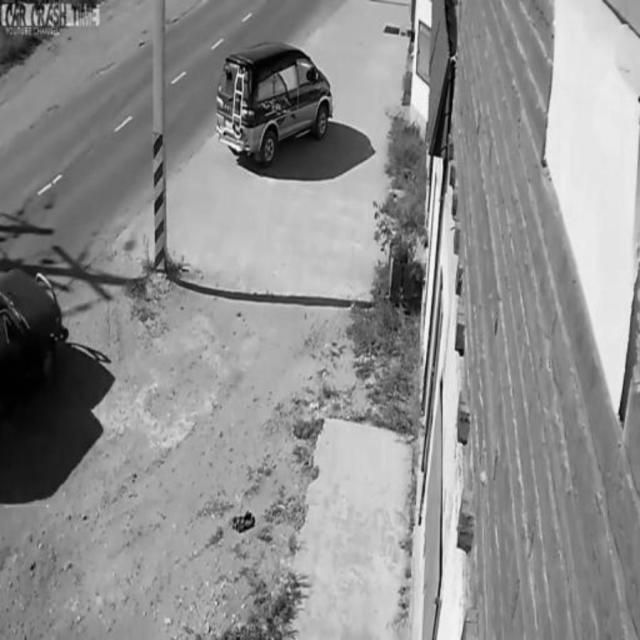vehicle: (219, 43, 333, 164), (0, 266, 70, 408)
